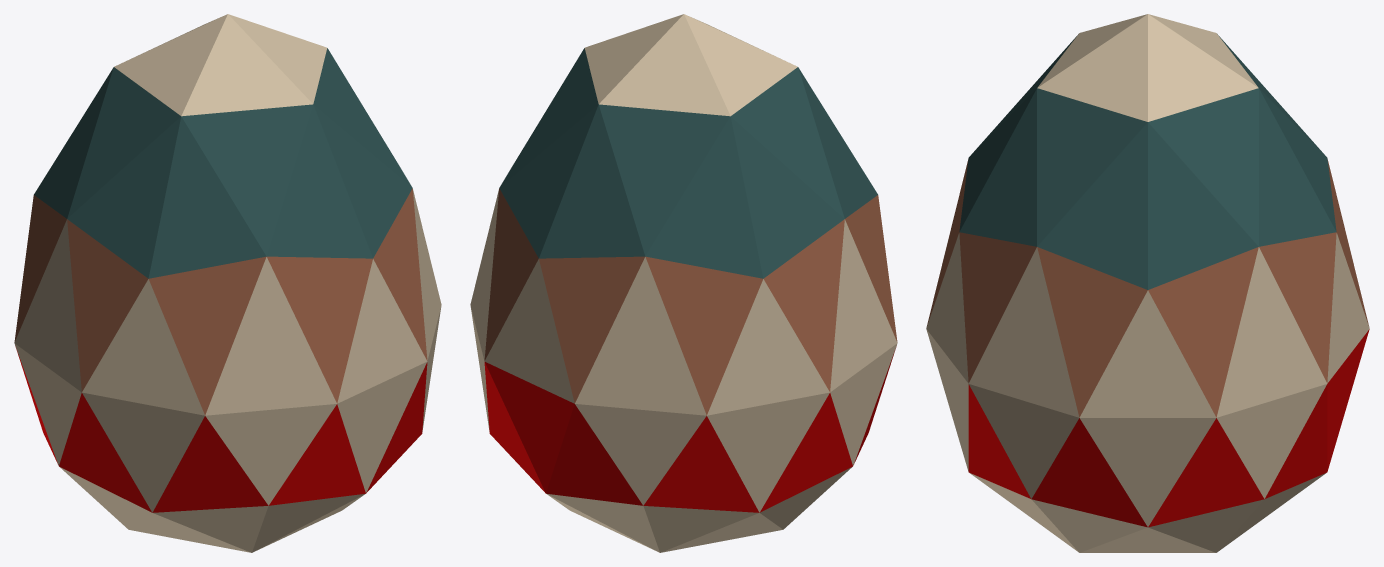
Rendered from LightStoneDecorationSmallEasterEgg2.fbx.
The picture shows the model from 3 angles, left to right: view 1: azimuth 30°, elevation 25°; view 2: azimuth 150°, elevation 25°; view 3: azimuth 270°, elevation 25°; orthographic projection.
Parts seen in each view (by area): view 1: LightStoneDecorationSmallEasterEgg2; view 2: LightStoneDecorationSmallEasterEgg2; view 3: LightStoneDecorationSmallEasterEgg2.
Boxes of the visible parts, bbox=[...] form: LightStoneDecorationSmallEasterEgg2: bbox=[14, 14, 441, 552]; LightStoneDecorationSmallEasterEgg2: bbox=[470, 14, 897, 552]; LightStoneDecorationSmallEasterEgg2: bbox=[926, 14, 1369, 552].
Size of the model in its own units: 80.82 by 112 by 84.98.
